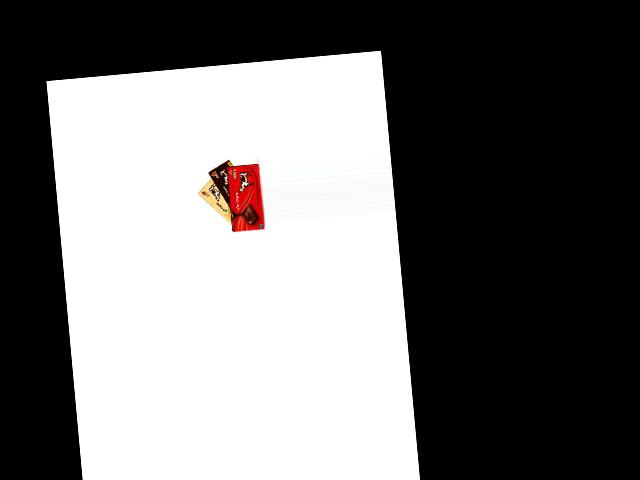chocolate: (195, 169, 238, 232)
